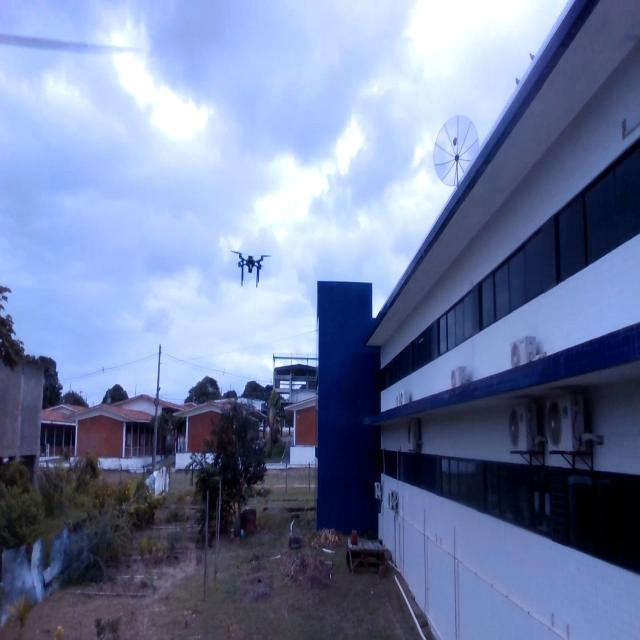-uav-: (228, 231, 274, 305)
